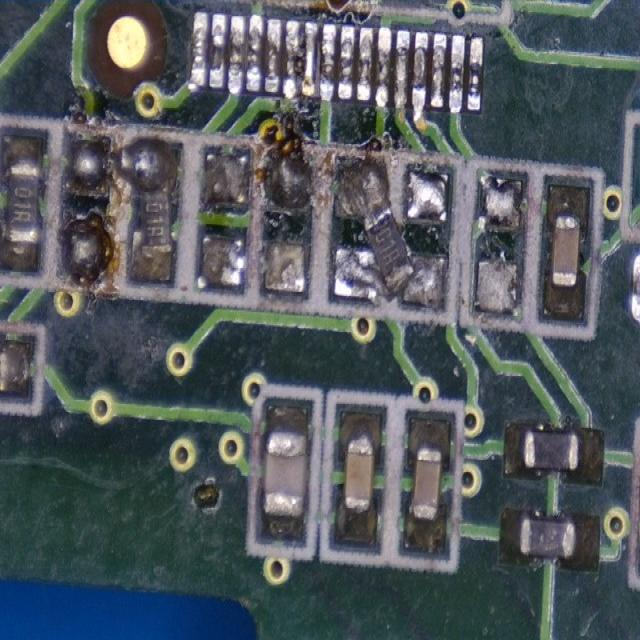Incorrect_installation: (334, 158, 415, 301), (119, 138, 181, 282)
Short_circuit: (333, 248, 445, 307)
